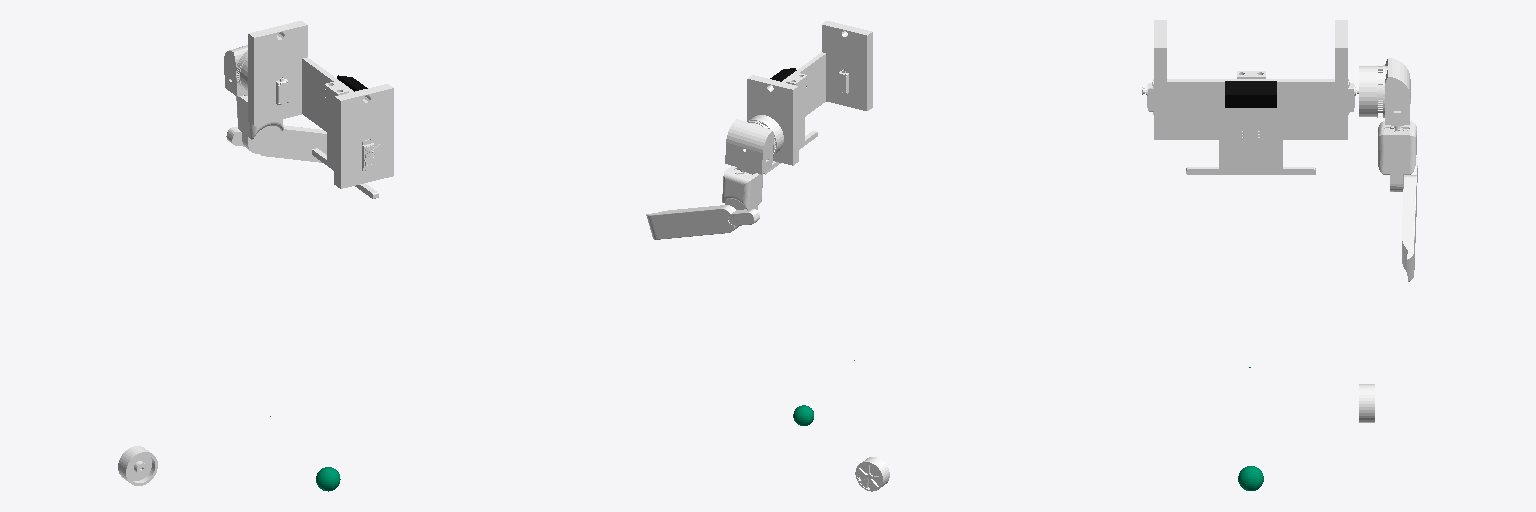
URDF robot description (fullrobotassem):
<?xml version="1.0" encoding="utf-8"?>
<robot name="fullrobotassem">

  <link name="base_footprint"/>

  <joint name="base_joint" type="fixed">
    <origin xyz="-0.046589 -0.236534 0.17626923" rpy="0 0 0"/>
    <parent link="base_footprint"/>
    <child link="base_link"/>
  </joint>

  <link name="base_link">
    <inertial>
      <origin xyz="0.139089 0.236534 0.235731" rpy="0 0 0" />
      <mass value="2.99" />
      <inertia ixx="0.20147" ixy="0" ixz="0" iyy="0.203289" iyz="0" izz="0.0664029" />
    </inertial>
    <visual>
      <origin xyz="0 0 0" rpy="0 0 0" />
      <geometry>
        <mesh filename="package://fullrobotassem/meshes/base_link.STL" />
      </geometry>
      <material name="gray_base">
        <color rgba="0.5 0.5 0.5 1" />
      </material>
    </visual>
    <collision>
      <origin xyz="0 0 0" rpy="0 0 0" />
      <geometry>
        <mesh filename="package://fullrobotassem/meshes/base_link.STL" />
      </geometry>
    </collision>
  </link>

  <link name="lidar_link">
    <inertial>
      <origin xyz="0 0 0" rpy="0 0 0" />
      <mass value="0.1" />
      <inertia ixx="0.0001" ixy="0" ixz="0" iyy="0.0001" iyz="0" izz="0.0001" />
    </inertial>
    <visual>
      <origin xyz="0 0 0" rpy="0 0 0" />
      <geometry>
        <cylinder radius="0.001" length="0.001"/>
      </geometry>
    </visual>
    <collision>
      <origin xyz="0 0 0" rpy="0 0 0" />
      <geometry>
        <cylinder radius="0.05" length="0.04"/>
      </geometry>
    </collision>
  </link>

  <joint name="lidar_joint" type="fixed">
    <origin xyz="0.19 0.235 -0.02" rpy="0 0 0" />
    <parent link="base_link" />
    <child link="lidar_link" />
  </joint>

  <link name="upper_body">
    <inertial>
      <origin xyz="0.286589 0.236535 0.485083" rpy="0 0 0" />
      <mass value="1.0125" />
      <inertia ixx="0.0136493" ixy="0" ixz="0" iyy="0.00485359" iyz="0" izz="0.0104832" />
    </inertial>

    <visual>
      <origin xyz="0 0 0" rpy="0 0 0" />
      <geometry>
        <mesh filename="package://fullrobotassem/meshes/upper_body.STL" />
      </geometry>
      <material name="white_body">
        <color rgba="1 1 1 1" />
      </material>
    </visual>
    <collision>
      <origin xyz="0 0 0" rpy="0 0 0" />
      <geometry>
        <mesh filename="package://fullrobotassem/meshes/upper_body.STL" />
      </geometry>
    </collision>
  </link>

  <joint name="upperbody" type="prismatic">
    <origin xyz="0 0 0" rpy="0 0 0" />
    <parent link="base_link" />
    <child link="upper_body" />
    <axis xyz="0 0 1" />
    <limit lower="-0.30" upper="0.065" effort="100" velocity="0.1" />
    <dynamics damping="5.0" friction="1.0" />
  </joint>

  <link name="left_shoulder">
    <inertial>
      <origin xyz="0 0 0" rpy="0 0 0" />
      <mass value="0.42814" />
      <inertia ixx="0.000424904" ixy="-2.0093e-06" ixz="1.14749e-06" iyy="0.000411979" iyz="2.78952e-05" izz="0.000418193" />
    </inertial>
    <visual>
      <origin xyz="-0.287084 -0.444446 -0.493527" rpy="0 0 0" />
      <geometry>
        <mesh filename="package://fullrobotassem/meshes/left_shoulder.STL" />
      </geometry>
      <material name="white_left_shoulder">
        <color rgba="1 1 1 1" />
      </material>
    </visual>
    <collision>
      <origin xyz="-0.287084 -0.444446 -0.493527" rpy="0 0 0" />
      <geometry>
        <mesh filename="package://fullrobotassem/meshes/left_shoulder.STL" />
      </geometry>
    </collision>
  </link>

  <joint name="left_shoulder_joint" type="revolute">
    <origin xyz="0.287084 0.444446 0.493527" rpy="0 0 0" />
    <parent link="upper_body" />
    <child link="left_shoulder" />
    <axis xyz="0 1 0" />
    <limit lower="-3.14" upper="1.57" effort="5" velocity="2.0" />
    <dynamics damping="0.1" friction="0.05" />
  </joint>

  <link name="left_arm">
    <inertial>
      <origin xyz="0.039221 0.009252 -0.127083" rpy="0 0 0" />
      <mass value="0.44382" />
      <inertia ixx="0.00100882" ixy="-0.000152956" ixz="0.000891016" iyy="0.00237659" iyz="0.000157432" izz="0.00157024" />
    </inertial>
    <visual>
      <origin xyz="-0.299505 -0.462575 -0.493527" rpy="0 0 0" />
      <geometry>
        <mesh filename="package://fullrobotassem/meshes/left_arm.STL" />
      </geometry>
      <material name="white_left_arm">
        <color rgba="1 1 1 1" />
      </material>
    </visual>
    <collision>
      <origin xyz="-0.299505 -0.462575 -0.493527" rpy="0 0 0" />
      <geometry>
        <mesh filename="package://fullrobotassem/meshes/left_arm.STL" />
      </geometry>
    </collision>
  </link>
  <joint name="left_arm_joint" type="revolute">
    <!-- <origin xyz="0 0 0" rpy="0 0 0" /> -->
    <origin xyz="0.012421 0.018129 0" rpy="0 0 0" />
    <parent link="left_shoulder" />
    <child link="left_arm" />
    <axis xyz="0 0 1" />
    <limit lower="-1.57" upper="1.57" effort="5" velocity="2.0" />
    <dynamics damping="0.1" friction="0.05" />
  </joint>

  <link name="right_shoulder">
    <inertial>
      <origin xyz="0 0 0" rpy="0 0 0" />
      <mass value="0.42793" />
      <inertia ixx="0.000423755" ixy="6.96857e-06" ixz="2.06603e-06" iyy="0.000411368" iyz="-2.68761e-05" izz="0.000418739" />
    </inertial>
    <visual>
      <origin xyz="-0.286956 -0.028614 -0.493711" rpy="0 0 0" />
      <geometry>
        <mesh filename="package://fullrobotassem/meshes/right_shoulder.STL" />
      </geometry>
      <material name="white_right_shoulder">
        <color rgba="1 1 1 1" />
      </material>
    </visual>
    <collision>
      <origin xyz="-0.286956 -0.028614 -0.493711" rpy="0 0 0" />
      <geometry>
        <mesh filename="package://fullrobotassem/meshes/right_shoulder.STL" />
      </geometry>
    </collision>
  </link>

  <joint name="right_shoulder_joint" type="revolute">
    <origin xyz="0.286956 0.028614 0.493711" rpy="0 0.24 0" />
    <parent link="upper_body" />
    <child link="right_shoulder" />
    <axis xyz="0 1 0" />
    <limit lower="-3.38" upper="1.33" effort="5" velocity="2.0" />
    <dynamics damping="0.1" friction="0.05" />
  </joint>

  <link name="right_arm">
    <inertial>
      <origin xyz="0.063229 -0.002284 -0.116748" rpy="0 0 0" />
      <mass value="0.44382" />
      <inertia ixx="0.000649348" ixy="-0.000124844" ixz="0.00068582" iyy="0.00235011" iyz="-9.51443e-06" izz="0.00189447" />
    </inertial>
    <visual>
      <origin xyz="-0.299145 -0.010485 -0.496694" rpy="0 0 0" />
      <geometry>
        <mesh filename="package://fullrobotassem/meshes/right_arm.STL" />
      </geometry>
      <material name="white_right_arm">
        <color rgba="1 1 1 1" />
      </material>
    </visual> 
    <collision>
      <origin xyz="-0.299145 -0.010485 -0.496694" rpy="0 0 0" />
      <geometry>
        <mesh filename="package://fullrobotassem/meshes/right_arm.STL" />
      </geometry>
    </collision>
  </link>

  <joint name="right_arm_joint" type="revolute">
    <origin xyz="0.012189 -0.018129 0.002983" rpy="0 0 0" />
    <parent link="right_shoulder" />
    <child link="right_arm" />
    <axis xyz="-0.237703 0 0.971338" />
    <limit lower="-1.57" upper="1.57" effort="5" velocity="2.0" />
    <dynamics damping="0.1" friction="0.05" />
  </joint>

<link name="right_wheel">
  <inertial>
    <origin xyz="0 0 0" rpy="0 0 0" />
    <mass value="0.05056" />
    <inertia ixx="1.4651E-05" ixy="0" ixz="0" iyy="2.5069E-05" iyz="0" izz="1.4653E-05" />
  </inertial>
  <visual>
    <origin xyz="-0.046589 -0.057034 0.149269" rpy="0 0 0" />
    <geometry>
      <mesh filename="package://fullrobotassem/meshes/right_wheel.STL" />
    </geometry>
    <material name="">
      <color rgba="1 1 1 1" />
    </material>
  </visual>
  <collision>
    <origin xyz="0 0 0" rpy="1.5708 0 0" />
    <geometry>
      <cylinder radius="0.03" length="0.026" />
    </geometry>
  </collision>
</link>

<joint name="rightwheel" type="continuous">
  <origin xyz="0.046589 0.057034 -0.149269" rpy="0 0 0" />
  <parent link="base_link" />
  <child link="right_wheel" />
  <axis xyz="0 1 0" />
  <limit effort="5" velocity="70" />
</joint>

<link name="left_wheel">
  <inertial>
    <origin xyz="0 0 0" rpy="0 0 0" />
    <mass value="0.05056" />
    <inertia ixx="1.4651E-05" ixy="0" ixz="0" iyy="2.5069E-05" iyz="0" izz="1.4653E-05" />
  </inertial>
  <visual>
    <origin xyz="-0.046589 -0.416034 0.149269" rpy="0 0 0" />
    <geometry>
      <mesh filename="package://fullrobotassem/meshes/left_wheel.STL" />
    </geometry>
    <material name="">
      <color rgba="1 1 1 1" />
    </material>
  </visual>
  <collision>
    <origin xyz="0 0 0" rpy="1.5708 0 0" />
    <geometry>
      <cylinder radius="0.03" length="0.026" />
    </geometry>
  </collision>
</link>

<joint name="leftwheel" type="continuous">
  <origin xyz="0.046589 0.416034 -0.149269" rpy="0 0 0" />
  <parent link="base_link" />
  <child link="left_wheel" />
  <axis xyz="0 1 0" />
  <limit effort="5" velocity="70" />
</joint>

  <gazebo reference="lidar_link">
    <sensor name="lidar" type="gpu_lidar">
      <always_on>true</always_on>
      <visualize>true</visualize>
      <update_rate>40</update_rate>
      <topic>/scan</topic>
      <gz_frame_id>lidar_link</gz_frame_id>
      <ray>
        <scan>
          <horizontal>
            <samples>720</samples>
            <resolution>1</resolution>
            <min_angle>-3.14159</min_angle>
            <max_angle>3.14159</max_angle>
          </horizontal>
        </scan>
        <range>
          <min>0.30</min>
          <max>30.0</max>
          <resolution>0.01</resolution>
        </range>
      </ray>
    </sensor>
  </gazebo>

  <link name="caster_link">
    <inertial>
      <origin xyz="0 0 0" rpy="0 0 0"/>
      <mass value="0.05"/>
      <inertia ixx="1e-5" ixy="0" ixz="0" iyy="1e-5" iyz="0" izz="1e-5"/>
    </inertial>
    <visual>
      <origin xyz="0 0 0" rpy="0 0 0"/>
      <geometry><sphere radius="0.02"/></geometry>
    </visual>
    <collision>
      <origin xyz="0 0 0" rpy="0 0 0"/>
      <geometry><sphere radius="0.02"/></geometry>
    </collision>
  </link> 

  <joint name="caster_joint" type="fixed">
    <origin xyz="0.30 0.2365 -0.159269" rpy="0 0 0"/>
    <parent link="base_link"/>
    <child link="caster_link"/>
  </joint>

  <gazebo reference="caster_link">
    <mu1>0.0</mu1>
    <mu2>0.0</mu2>
  </gazebo>

  <gazebo reference="left_wheel">
    <mu1>1.5</mu1>
    <mu2>1.5</mu2>
    <minDepth>0.001</minDepth>
    <visual>
      <material>
        <ambient>0.05 0.05 0.05 1</ambient>
        <diffuse>0.05 0.05 0.05 1</diffuse>
        <specular>0.1 0.1 0.1 1</specular>
      </material>
    </visual>
  </gazebo>

  <gazebo reference="right_wheel">
    <mu1>1.5</mu1>
    <mu2>1.5</mu2>
    <minDepth>0.001</minDepth>
    <visual>
      <material>
        <ambient>0.05 0.05 0.05 1</ambient>
        <diffuse>0.05 0.05 0.05 1</diffuse>
        <specular>0.1 0.1 0.1 1</specular>
      </material>
    </visual>
  </gazebo>

  <gazebo>
    <plugin filename="gz-sim-diff-drive-system" name="gz::sim::systems::DiffDrive">
      <left_joint>leftwheel</left_joint>
      <right_joint>rightwheel</right_joint>
      <wheel_separation>0.359</wheel_separation>
      <wheel_radius>0.03</wheel_radius>
      <max_linear_velocity>1.0</max_linear_velocity>
      <min_linear_velocity>-1.0</min_linear_velocity>
      <max_angular_velocity>4.5</max_angular_velocity>
      <min_angular_velocity>-4.5</min_angular_velocity>
      <max_linear_acceleration>2.0</max_linear_acceleration>
      <min_linear_acceleration>-2.0</min_linear_acceleration>
      <max_angular_acceleration>7.5</max_angular_acceleration>
      <min_angular_acceleration>-7.5</min_angular_acceleration>
      
      <odom_publish_frequency>50</odom_publish_frequency>
      <topic>/cmd_vel</topic>
      <odom_topic>/odom</odom_topic>
      <tf_topic>/tf</tf_topic>
      <frame_id>odom</frame_id>
      <child_frame_id>base_footprint</child_frame_id>
    </plugin>
  </gazebo>
  <gazebo>
    <plugin filename="gz-sim-joint-state-publisher-system" name="gz::sim::systems::JointStatePublisher">
      <topic>joint_states</topic>
    </plugin>
  </gazebo>

  <!-- 1. CAMERA LINK -->
  <link name="camera_link">
    <inertial>
      <origin xyz="0 0 0" rpy="0 0 0"/>
      <mass value="0.05"/>
      <inertia ixx="1e-4" ixy="0" ixz="0" iyy="1e-4" iyz="0" izz="1e-4"/>
    </inertial>
    <visual>
      <origin xyz="0 0 0" rpy="0 0 0"/>
      <geometry>
        <box size="0.03 0.08 0.03"/>
      </geometry>
      <material name="black">
        <color rgba="0.1 0.1 0.1 1"/>
      </material>
    </visual>
    <collision>
      <origin xyz="0 0 0" rpy="0 0 0"/>
      <geometry>
        <box size="0.03 0.08 0.03"/>
      </geometry>
    </collision>
  </link>

  <link name="camera_link_optical"/>

  <joint name="camera_joint" type="fixed">
    <origin xyz="0.35 0.2365 0.52" rpy="0 0.349066 0"/>
    <parent link="upper_body"/>
    <child link="camera_link"/>
  </joint>

  <joint name="camera_optical_joint" type="fixed">
    <origin xyz="0 0 0" rpy="-1.5708 0 -1.5708"/>
    <parent link="camera_link"/>
    <child link="camera_link_optical"/>
  </joint>

  <gazebo reference="camera_link">
    <sensor name="camera" type="camera">
      <always_on>true</always_on>
      <update_rate>30</update_rate>
      <topic>/camera/image_raw</topic>
      <gz_frame_id>camera_link_optical</gz_frame_id>
      <camera>
        <horizontal_fov>1.089</horizontal_fov> 
        <image>
          <width>640</width>
          <height>480</height>
          <format>R8G8B8</format>
        </image>
        <clip>
          <near>0.05</near>
          <far>8.0</far>
        </clip>
      </camera>
    </sensor>
  </gazebo>
  <gazebo>
    <plugin filename="gz-sim-joint-position-controller-system"
            name="gz::sim::systems::JointPositionController">
      <joint_name>upperbody</joint_name>
      <topic>/upper_body/cmd_pos</topic>
      <p_gain>2000</p_gain>
      <i_gain>100</i_gain>
      <d_gain>150</d_gain>
      <i_max>50</i_max>
      <i_min>-50</i_min>
      <cmd_max>100</cmd_max>
      <cmd_min>-100</cmd_min>
    </plugin>
  </gazebo>

  <gazebo>
    <plugin filename="gz-sim-joint-position-controller-system"
            name="gz::sim::systems::JointPositionController">
      <joint_name>left_arm_joint</joint_name>
      <topic>/left_arm/cmd_pos</topic>
      <p_gain>20</p_gain>
      <i_gain>0.5</i_gain>
      <d_gain>2</d_gain>
      <i_max>2</i_max>
      <i_min>-2</i_min>
      <cmd_max>5</cmd_max>
      <cmd_min>-5</cmd_min>
    </plugin>
  </gazebo>

  <gazebo>
    <plugin filename="gz-sim-joint-position-controller-system"
            name="gz::sim::systems::JointPositionController">
      <joint_name>right_arm_joint</joint_name>
      <topic>/right_arm/cmd_pos</topic>
      <p_gain>20</p_gain>
      <i_gain>0.5</i_gain>
      <d_gain>2</d_gain>
      <i_max>2</i_max>
      <i_min>-2</i_min>
      <cmd_max>5</cmd_max>
      <cmd_min>-5</cmd_min>
    </plugin>
  </gazebo>

  <gazebo>
    <plugin filename="gz-sim-joint-position-controller-system"
            name="gz::sim::systems::JointPositionController">
      <joint_name>left_shoulder_joint</joint_name>
      <topic>/left_shoulder/cmd_pos</topic>
      <p_gain>20</p_gain>
      <i_gain>0.5</i_gain>
      <d_gain>2</d_gain>
      <i_max>2</i_max>
      <i_min>-2</i_min>
      <cmd_max>5</cmd_max>
      <cmd_min>-5</cmd_min>
    </plugin>
  </gazebo>

  <gazebo>
    <plugin filename="gz-sim-joint-position-controller-system"
            name="gz::sim::systems::JointPositionController">
      <joint_name>right_shoulder_joint</joint_name>
      <topic>/right_shoulder/cmd_pos</topic>
      <p_gain>20</p_gain>
      <i_gain>0.5</i_gain>
      <d_gain>2</d_gain>
      <i_max>2</i_max>
      <i_min>-2</i_min>
      <cmd_max>5</cmd_max>
      <cmd_min>-5</cmd_min>
    </plugin>
  </gazebo>
  
</robot>

--- What the picture shows (computed from the rendered views, not written in the file) ---
Views: 3 orthographic renders of the robot side by side, from view 1: azimuth 30°, elevation 25°; view 2: azimuth 150°, elevation 25°; view 3: azimuth 270°, elevation 25°.
Robot: fullrobotassem — 13 links, 12 joints (4 revolute, 2 continuous, 1 prismatic, 5 fixed); root link base_footprint; default pose: all joints at 0.
Visible links, largest first — view 1: upper_body, left_arm, left_wheel, left_shoulder; view 2: upper_body, left_arm, left_shoulder, left_wheel; view 3: upper_body, left_arm, left_shoulder, camera_link, left_wheel.
Link boxes in pixels (left/top/right/bottom): upper_body: left=248, top=21, right=393, bottom=198; left_arm: left=226, top=95, right=326, bottom=162; left_wheel: left=118, top=446, right=157, bottom=485; left_shoulder: left=224, top=45, right=247, bottom=96; upper_body: left=747, top=21, right=872, bottom=174; left_arm: left=646, top=166, right=762, bottom=239; left_shoulder: left=725, top=115, right=783, bottom=174; left_wheel: left=855, top=457, right=889, bottom=491; upper_body: left=1142, top=20, right=1358, bottom=174; left_arm: left=1378, top=121, right=1417, bottom=281; left_shoulder: left=1359, top=58, right=1410, bottom=130; camera_link: left=1225, top=81, right=1276, bottom=107; left_wheel: left=1359, top=384, right=1374, bottom=422.
Bounding box of the posed robot: 0.487 × 0.4277 × 0.7734 m (x, y, z).
Meshes: 8 distinct files referenced, 4 mesh visuals loaded (4 binary STL); not drawn: 4 (file found but could not be loaded).
